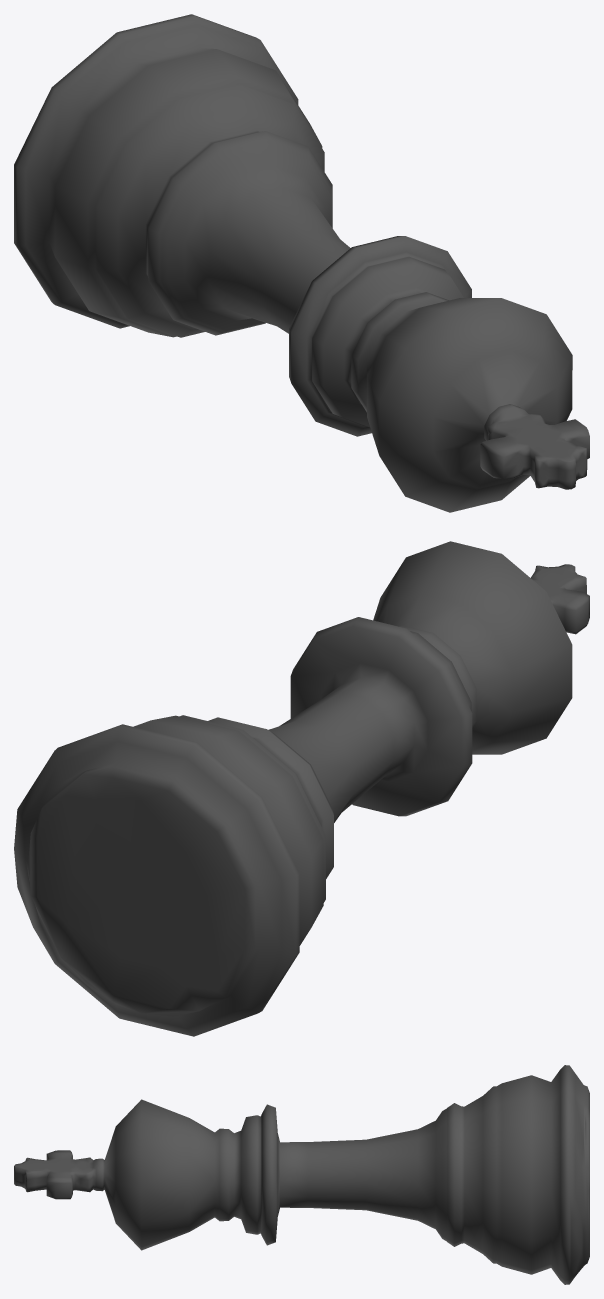
Rendered from BKing.obj.
3 renders of one model, top to bottom at view 1: azimuth 30°, elevation 25°; view 2: azimuth 150°, elevation 25°; view 3: azimuth 270°, elevation 25°, orthographic. The views are drawn at different scales.
Visible parts, largest first — view 1: 12932_Wooden_Chess_King_Side_B_V2_l3; view 2: 12932_Wooden_Chess_King_Side_B_V2_l3; view 3: 12932_Wooden_Chess_King_Side_B_V2_l3.
Part boxes in pixels (x1,y1,x2,y2): 12932_Wooden_Chess_King_Side_B_V2_l3: (14, 14, 589, 512); 12932_Wooden_Chess_King_Side_B_V2_l3: (14, 541, 589, 1036); 12932_Wooden_Chess_King_Side_B_V2_l3: (14, 1065, 589, 1284).
Size of the model in its own units: 1.08 by 1.08 by 2.88.
1 material, 1 textured.
